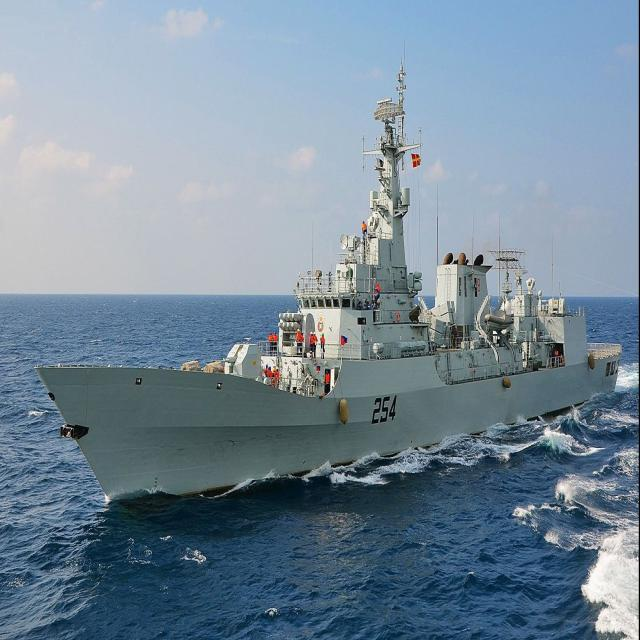navalvessels: (35, 52, 637, 508)
